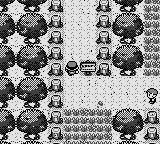captura: (64, 109, 112, 143), (144, 0, 159, 76)
leer: (80, 61, 95, 75)
main: (66, 62, 79, 75)
no-caminable: (0, 1, 47, 143), (112, 0, 144, 76), (48, 1, 63, 143), (96, 0, 111, 76), (113, 109, 143, 143), (144, 109, 159, 143)
npc: (145, 89, 158, 103)
